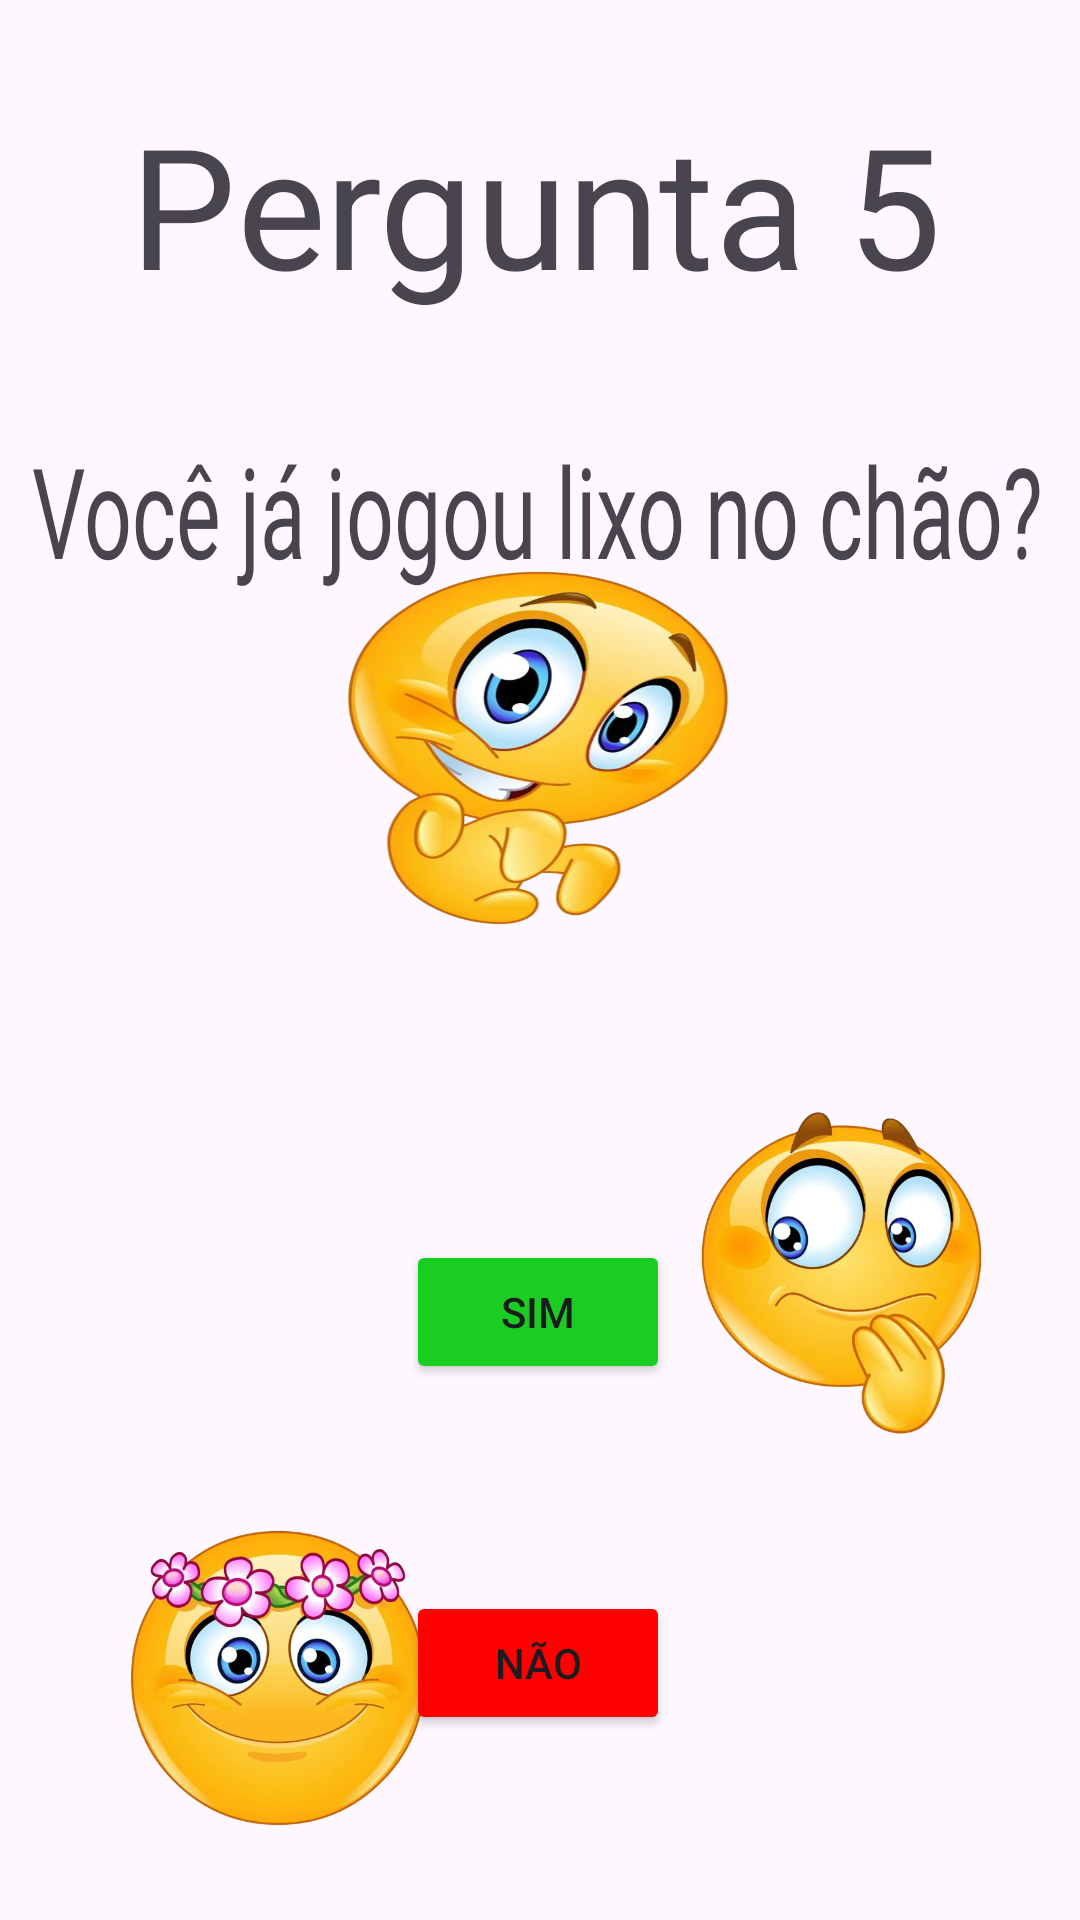

Screen size 1080px x 1920px. Icon name, then its box in pixels as Rect(x1, y1, x2, y2):
rosas: Rect(131, 1531, 431, 1825)
